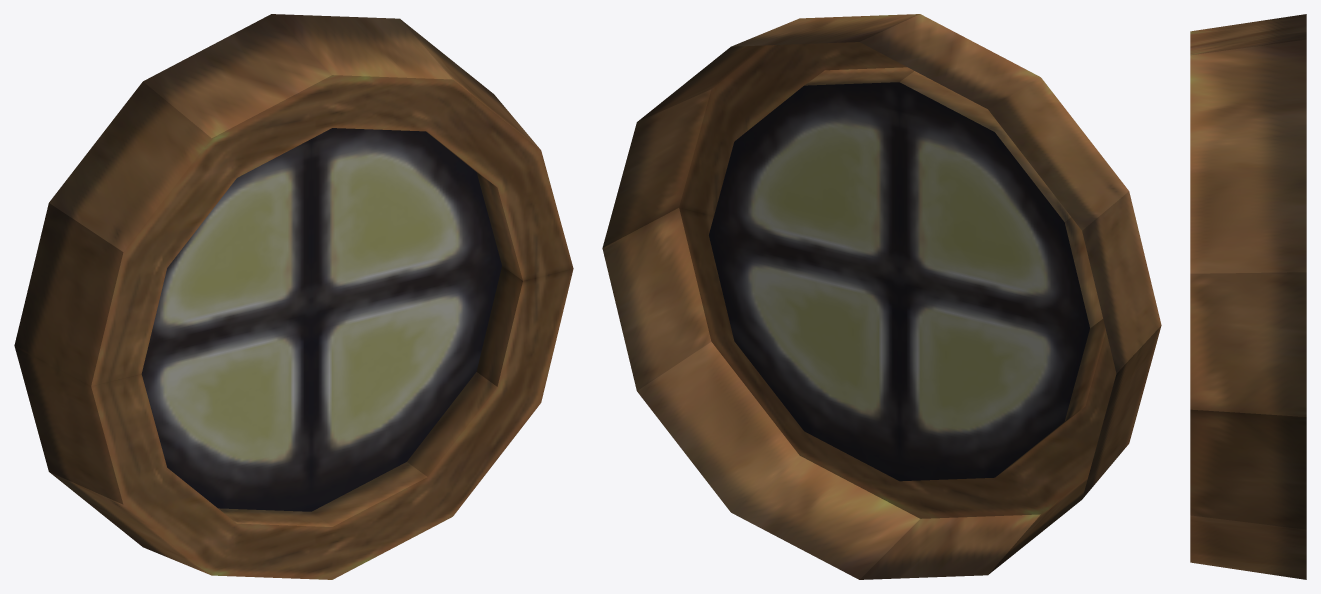
The model's file is fanasty_mod_round_window.fbx.
3 views of the same model, side by side, from view 1: azimuth 30°, elevation 25°; view 2: azimuth 150°, elevation 25°; view 3: azimuth 270°, elevation 25° (orthographic). The views are drawn at different scales.
Parts seen in each view (by area): view 1: round_window; view 2: round_window; view 3: round_window.
Part boxes in pixels (x1,y1,x2,y2): round_window: (14,14,573,579); round_window: (602,14,1161,579); round_window: (1190,14,1306,579).
Bounding box in the file's own units: 1.48 × 1.48 × 0.3034.
